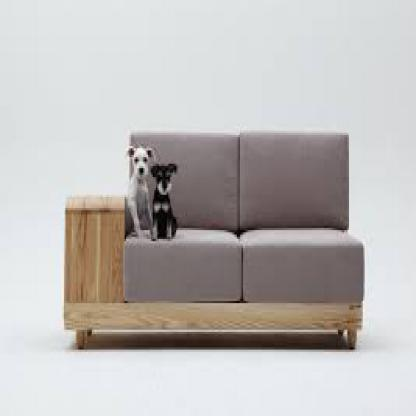sofa: (60, 128, 367, 348)
